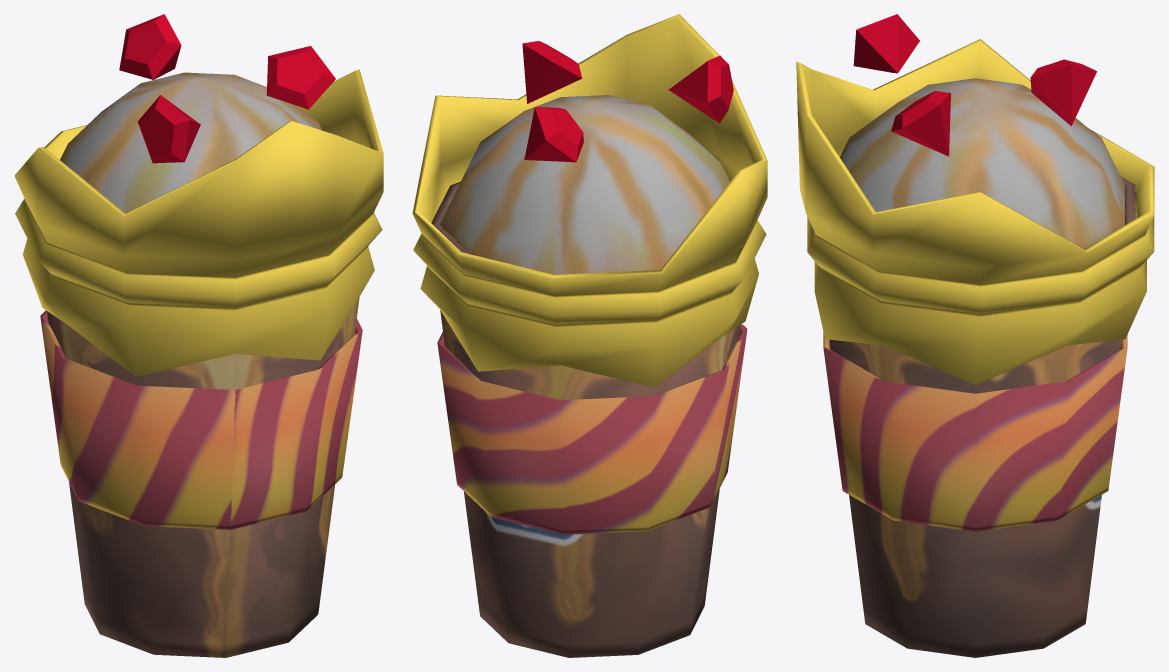
File: New_Brown_Coffee.fbx
The picture shows the model from 3 angles, left to right: view 1: azimuth 30°, elevation 25°; view 2: azimuth 150°, elevation 25°; view 3: azimuth 270°, elevation 25°; orthographic projection. The views are drawn at different scales.
Parts seen in each view (by area): view 1: Lid.002, Cupofcoffee.002, Brownsleeve, Diamond; view 2: Cupofcoffee.002, Lid.002, Brownsleeve, Diamond; view 3: Cupofcoffee.002, Lid.002, Brownsleeve, Diamond.
Part boxes in pixels (left/top/right/bottom): Lid.002: left=14, top=69, right=383, bottom=376; Cupofcoffee.002: left=47, top=72, right=359, bottom=657; Brownsleeve: left=40, top=310, right=362, bottom=529; Diamond: left=119, top=14, right=335, bottom=163; Cupofcoffee.002: left=431, top=95, right=740, bottom=657; Lid.002: left=412, top=14, right=767, bottom=387; Brownsleeve: left=437, top=324, right=747, bottom=534; Diamond: left=522, top=41, right=733, bottom=162; Cupofcoffee.002: left=829, top=78, right=1135, bottom=657; Lid.002: left=796, top=39, right=1154, bottom=385; Brownsleeve: left=823, top=332, right=1127, bottom=531; Diamond: left=853, top=14, right=1097, bottom=156.
Size of the model in its own units: 0.1268 by 0.2124 by 0.1241.
4 materials, 2 textured.
